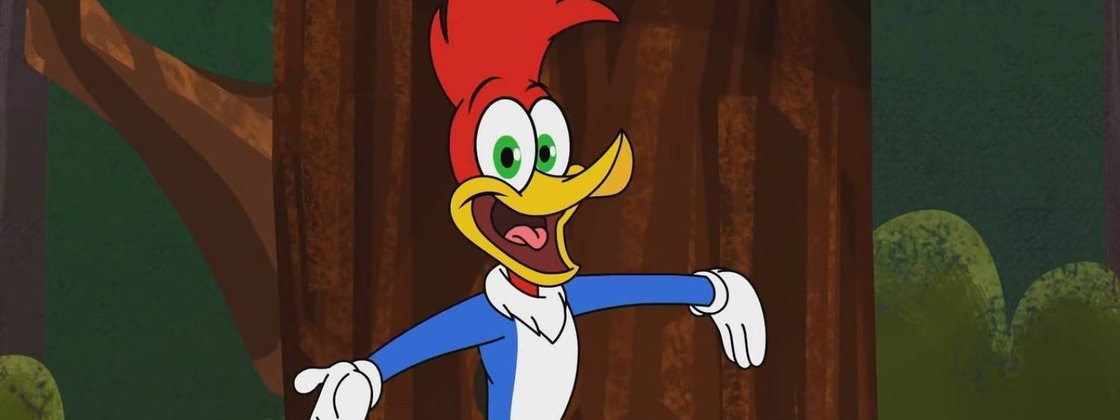picapau: (260, 5, 784, 420)
